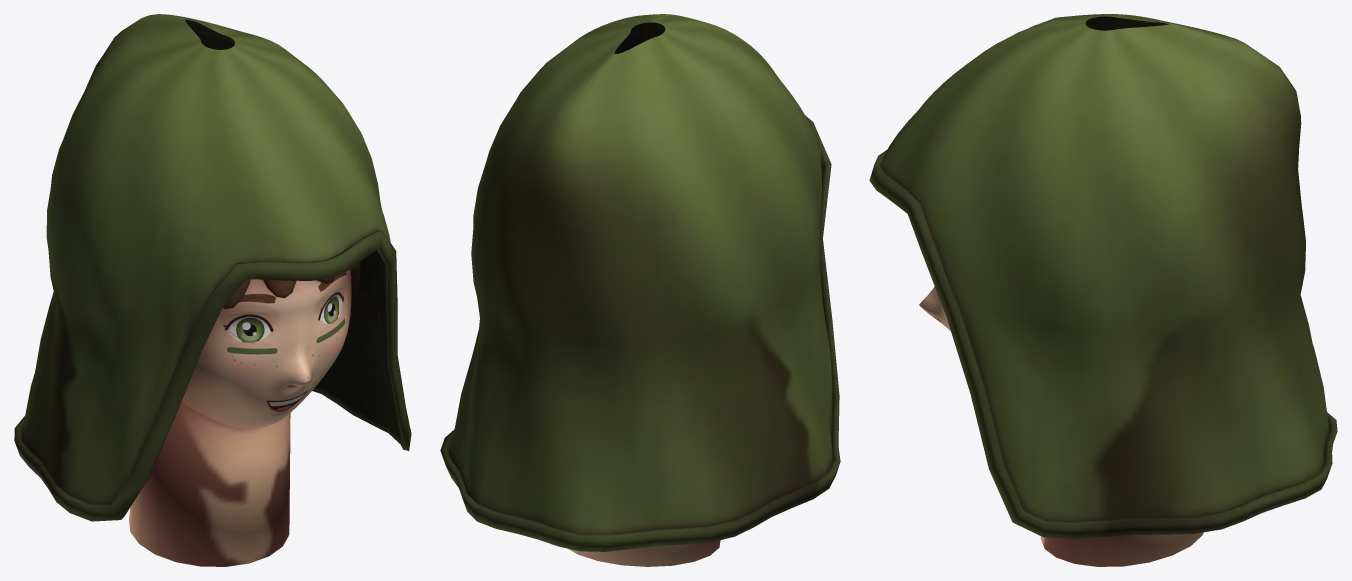
File: cabeza-archer-m.glb
The picture shows the model from 3 angles, left to right: view 1: azimuth 30°, elevation 25°; view 2: azimuth 150°, elevation 25°; view 3: azimuth 270°, elevation 25°; orthographic projection. The views are drawn at different scales.
Parts seen in each view (by area): view 1: h_Head; view 2: h_Head; view 3: h_Head.
Part boxes in pixels (x1,y1,x2,y2): h_Head: (14,14,411,566); h_Head: (440,14,840,566); h_Head: (869,14,1337,566).
Bounding box in the file's own units: 0.2607 × 0.3727 × 0.307.
Materials: 1 (1 with a texture image).
